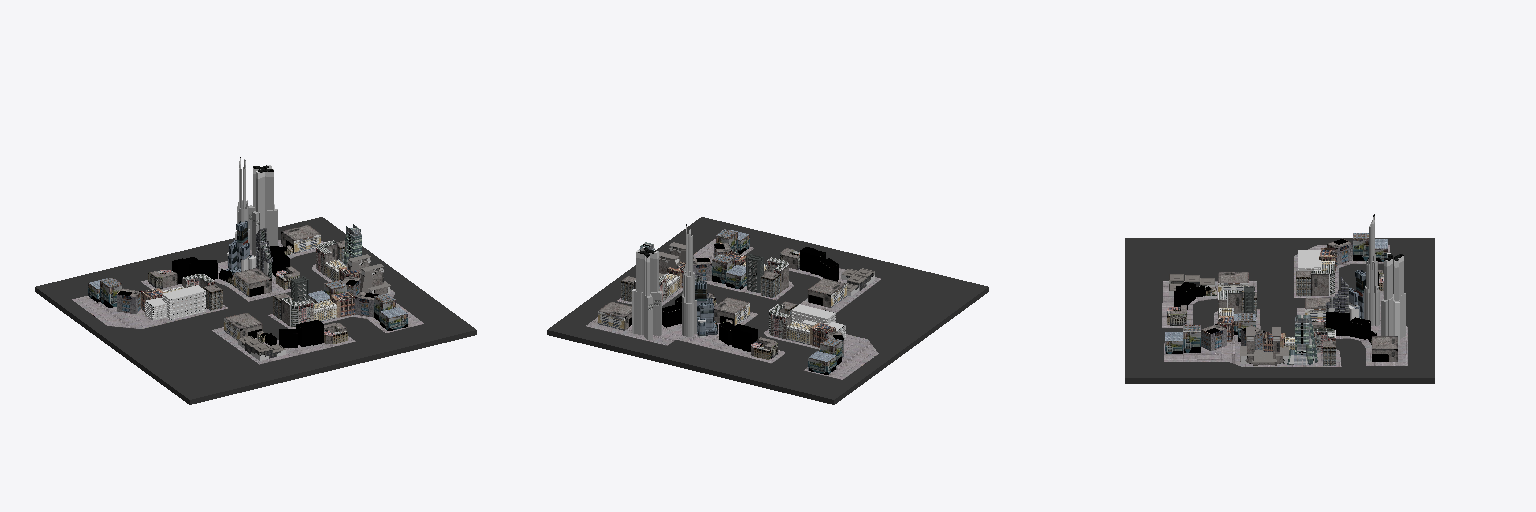
The picture shows the model from 3 angles: view 1: azimuth 30°, elevation 25°; view 2: azimuth 150°, elevation 25°; view 3: azimuth 270°, elevation 25°; orthographic projection.
Visible parts, largest first — view 1: The City; view 2: The City; view 3: The City.
Boxes of the visible parts, box(x1,y1,x2,y2) form: The City: box(35, 157, 476, 404); The City: box(547, 217, 988, 404); The City: box(1125, 214, 1434, 383).
Size of the model in its own units: 2277 by 871 by 2124.
4 materials, 3 textured.